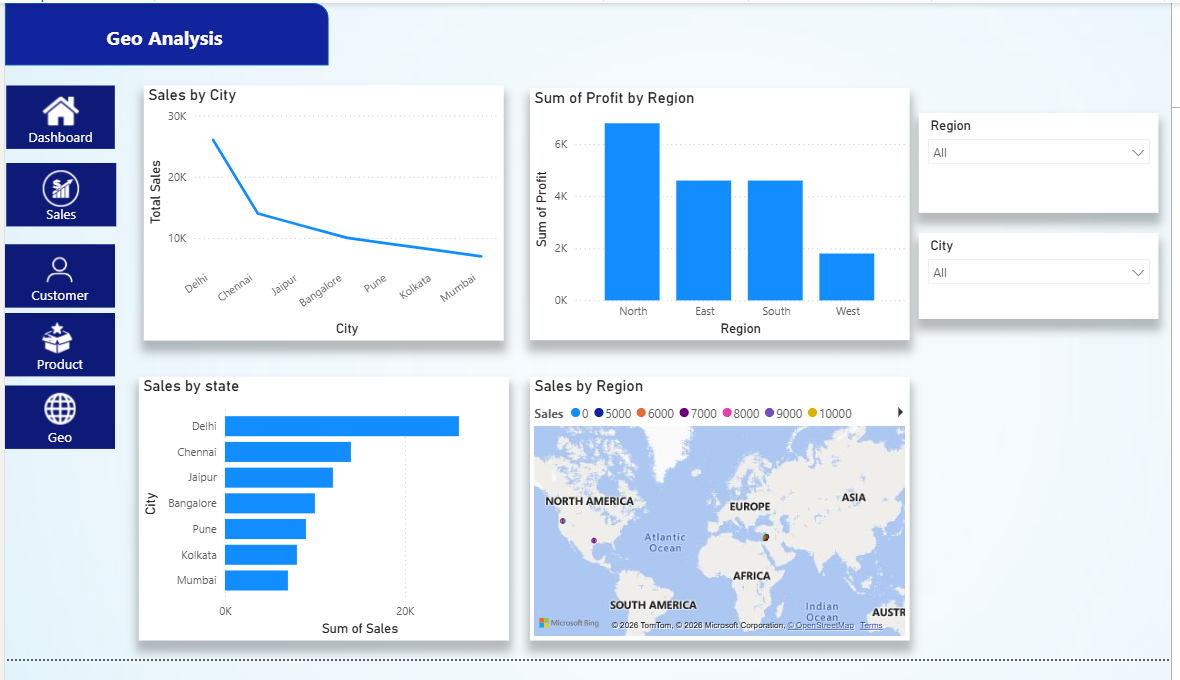

Layout of this report page (visuals, bound fields, positions):
{"tool":"powerbi","page":{"name":"Geo","canvas":[1280,720],"ordinal":4},"visuals":[{"type":"map","title":" Sales by Region","fields":{"Series":["Sales.Sales"],"Category":["Sales.Region"]},"box":[576.3,410.3,417.2,289.5],"z":0},{"type":"clusteredColumnChart","fields":{"Category":["Sales.Region"],"Y":["Sum(Sales.Profit)"]},"box":[576.3,93.3,417.2,277.2],"z":1000},{"type":"lineChart","title":"Sales by City","fields":{"Y":["Sales.Total Sales"],"Category":["Customer.City"]},"box":[152.3,90.6,395.2,279.9],"z":2000},{"type":"actionButton","box":[1.4,90.6,119.4,70],"z":3000},{"type":"actionButton","box":[1.4,175.6,120.8,70],"z":4000},{"type":"actionButton","box":[0,264.8,120.8,70],"z":5000},{"type":"actionButton","box":[0,340.3,120.8,70],"z":6000},{"type":"clusteredBarChart","title":" Sales by state","fields":{"Y":["Sum(Sales.Sales)"],"Category":["Customer.City"]},"box":[146.8,410.3,406.2,289.5],"z":7000},{"type":"slicer","fields":{"Values":["Sales.Region"]},"box":[1003.1,120.8,263.5,109.8],"z":8000},{"type":"slicer","fields":{"Values":["Customer.City"]},"box":[1003.1,252.5,263.5,94.7],"z":9000},{"type":"actionButton","box":[0,419.9,120.8,70],"z":10000},{"type":"shape","box":[0,0,355.4,68.6],"z":11000}]}

Visuals, with their boxes on the page's 1280x720 design canvas (x1, y1, x2, y2). These are canvas units, not pixel positions in the 1180x680 screenshot, which may show the page scaled, cropped or inside an application window:
" Sales by Region" map: bbox(576, 410, 994, 700)
clusteredColumnChart - Sales.Region x Sum(Sales.Profit): bbox(576, 93, 994, 370)
"Sales by City" lineChart: bbox(152, 91, 548, 370)
actionButton: bbox(1, 91, 121, 161)
actionButton: bbox(1, 176, 122, 246)
actionButton: bbox(0, 265, 121, 335)
actionButton: bbox(0, 340, 121, 410)
" Sales by state" clusteredBarChart: bbox(147, 410, 553, 700)
slicer - Sales.Region: bbox(1003, 121, 1267, 231)
slicer - Customer.City: bbox(1003, 252, 1267, 347)
actionButton: bbox(0, 420, 121, 490)
shape: bbox(0, 0, 355, 69)
